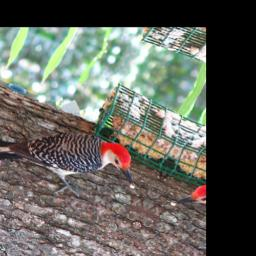Woodpecker: (0, 98, 150, 223)
